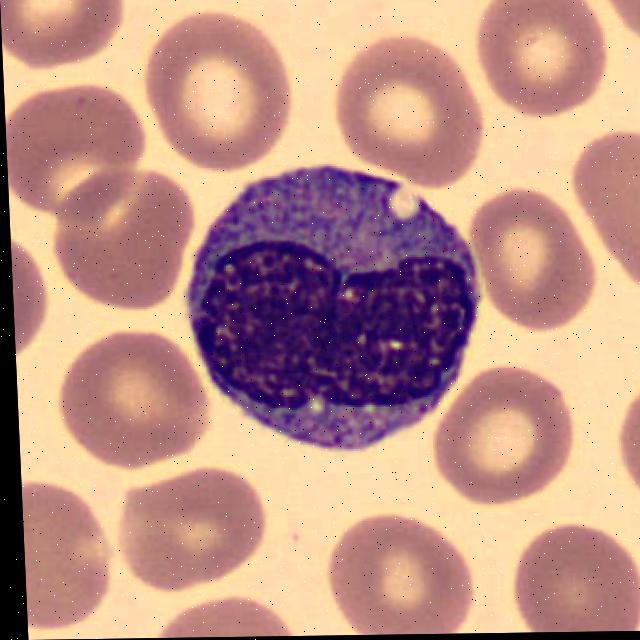monocyte: (184, 154, 504, 481)
rbc: (142, 9, 283, 167), (473, 183, 593, 334), (341, 45, 474, 179), (336, 506, 468, 635), (436, 367, 570, 494), (69, 332, 201, 460), (5, 85, 144, 205), (127, 473, 261, 583), (60, 173, 182, 290), (22, 486, 115, 623), (479, 0, 600, 103), (516, 533, 640, 633), (575, 130, 640, 295), (0, 0, 132, 79), (157, 599, 304, 638), (11, 235, 48, 355), (620, 369, 640, 502)
